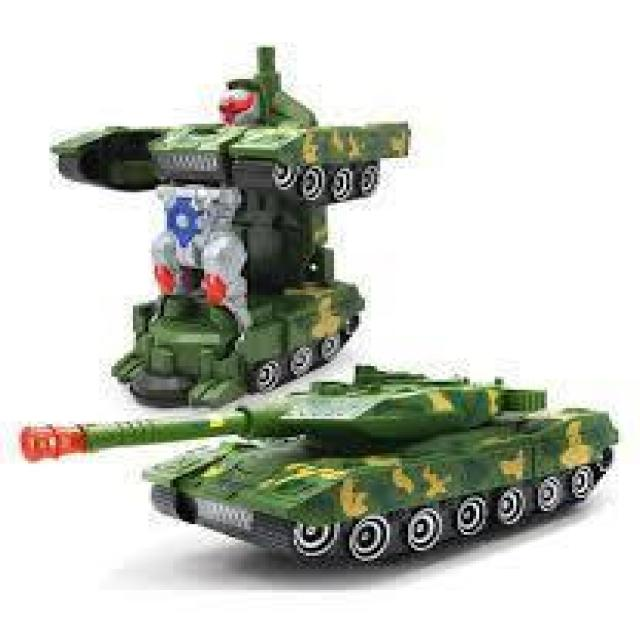Tanks: (59, 43, 439, 426), (20, 369, 574, 619)
